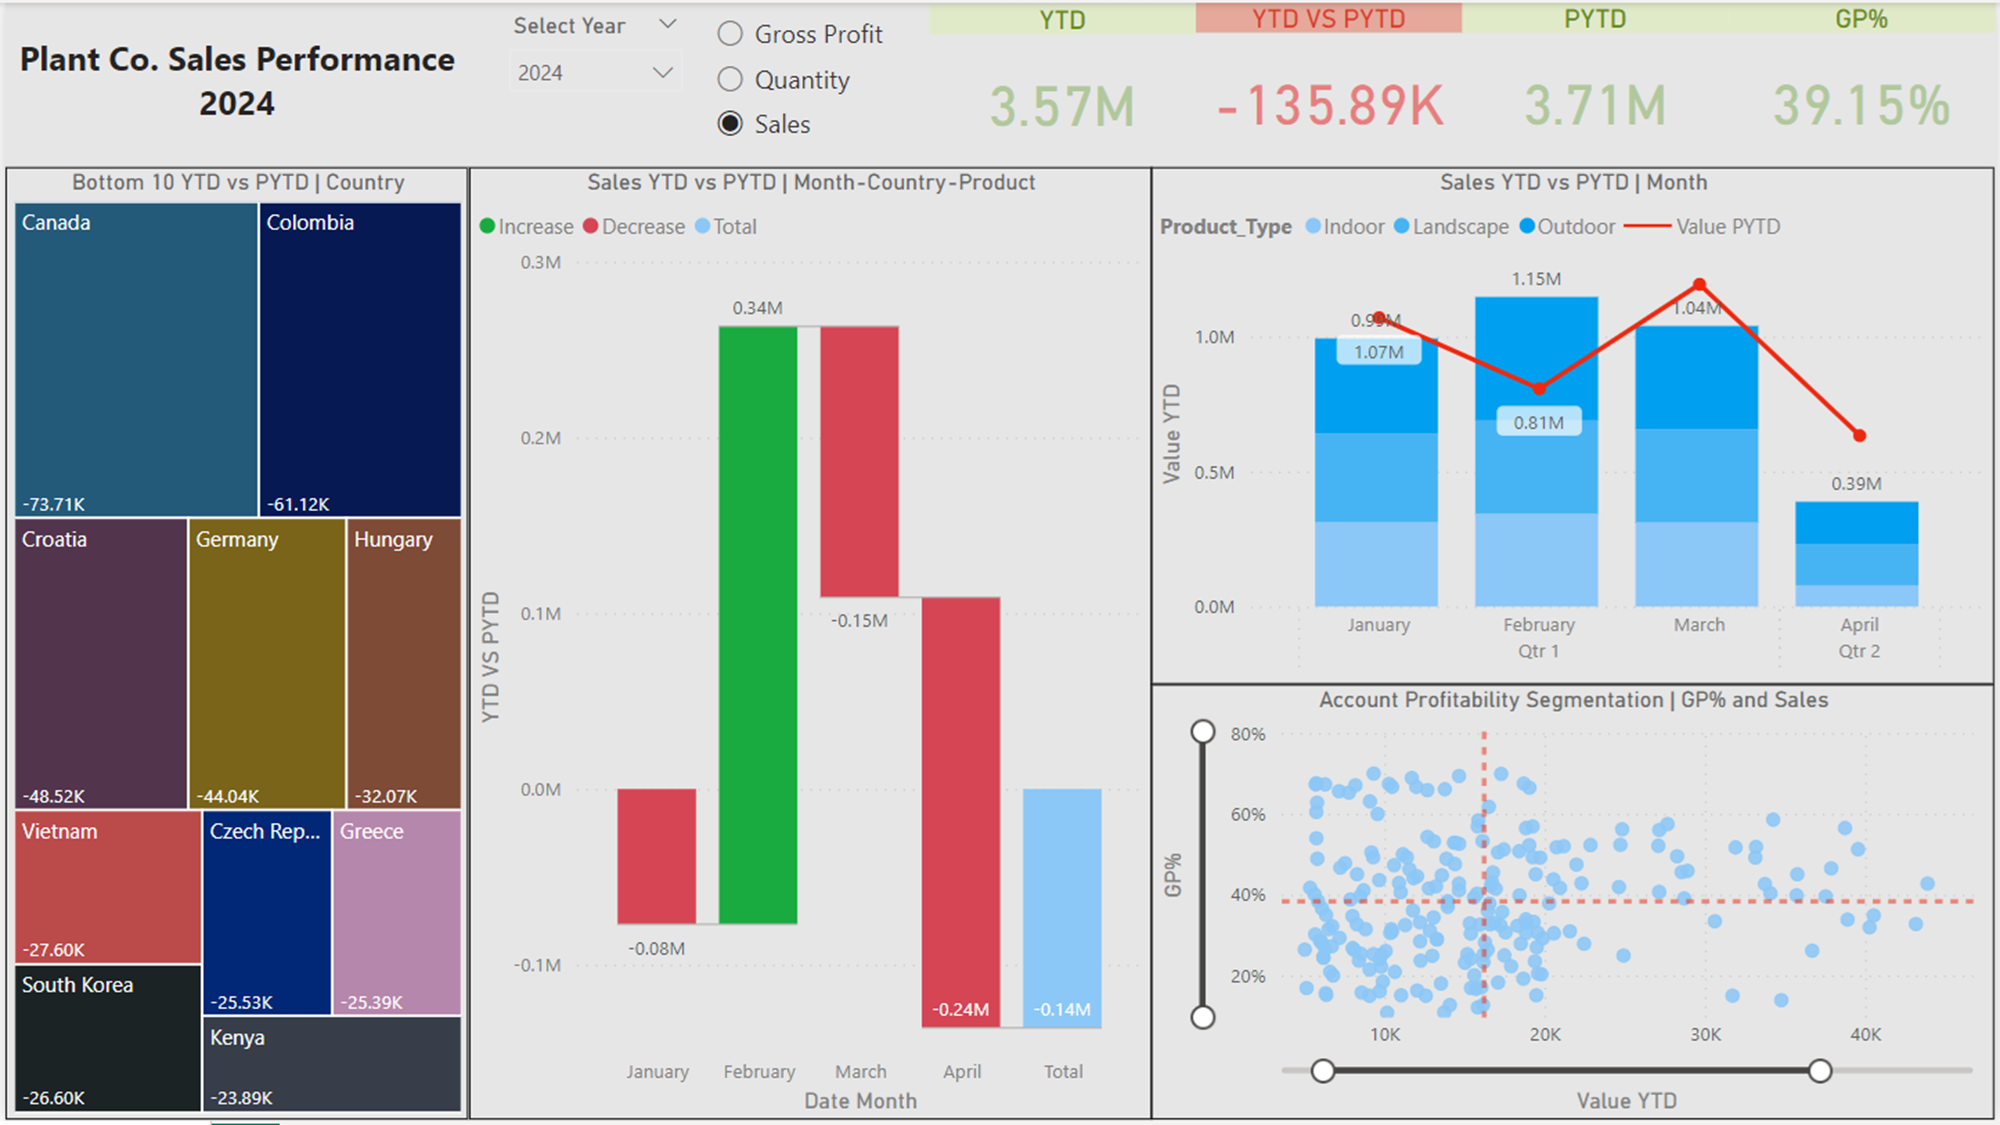

What the dashboard file says about the page in this screenshot:
{"tool":"powerbi","page":{"name":"Plant Co. Performance Report","canvas":[1280,720],"ordinal":0},"visuals":[{"type":"card","title":"YTD","fields":{"Values":["_Measures.YTD_Sales"]},"box":[594.6,1.2,171.3,104.9],"z":0},{"type":"card","title":"PYTD","fields":{"Values":["_Measures.PYTD_Sales"]},"box":[937.1,0,171.3,106.1],"z":1000},{"type":"card","title":"YTD VS PYTD","fields":{"Values":["_Measures.YTD VS PYTD"]},"box":[765.8,0,171.3,106.1],"z":2000},{"type":"slicer","fields":{"Values":["Slc_Values.Values"]},"box":[445,0,149.5,106.1],"z":4000},{"type":"slicer","fields":{"Values":["Dim_Date.Date.Variation.Date Hierarchy.Year"]},"box":[313.6,1.2,131.5,74.8],"z":5000},{"type":"treemap","title":"Bottom 10 YTD vs PYTD | Country","fields":{"Group":["Dim_Account.country"],"Values":["_Measures.YTD VS PYTD"]},"box":[0,106.1,297.9,612.7],"z":6000},{"type":"waterfallChart","fields":{"Y":["_Measures.YTD VS PYTD"],"Category":["Dim_Date.Date.Variation.Date Hierarchy.Month","Dim_Account.country","Dim_Product.Product_Type","Dim_Product.Product_Name"]},"box":[297.9,106.1,439,612.7],"z":7000},{"type":"lineStackedColumnComboChart","fields":{"Y":["_Measures.S_YTD"],"Category":["Dim_Date.Date.Variation.Date Hierarchy.Quarter","Dim_Date.Date.Variation.Date Hierarchy.Month"],"Y2":["_Measures.S_PYTD"],"Series":["Dim_Product.Product_Type"]},"box":[736.9,106.1,542.7,332.9],"z":8000},{"type":"card","title":"GP%","fields":{"Values":["_Measures.GP%"]},"box":[1108.3,0,171.3,106.1],"z":8001},{"type":"scatterChart","fields":{"Y":["_Measures.GP%"],"X":["_Measures.S_YTD"],"Category":["Dim_Account.Account"]},"box":[736.9,439,542.7,279.8],"z":8002},{"type":"clusteredColumnChart","box":[0,20.5,297.9,66.3],"z":8003}]}

Visuals, with their boxes in screenshot pixels (x1, y1, x2, y2), scaled from the page's 1280x720 canvas onto the 2000x1125 screenshot:
"YTD" card: l=929, t=2, r=1197, b=166
"PYTD" card: l=1464, t=0, r=1732, b=166
"YTD VS PYTD" card: l=1197, t=0, r=1464, b=166
slicer - Slc_Values.Values: l=695, t=0, r=929, b=166
slicer - Dim_Date.Date.Variation.Date Hierarchy.Year: l=490, t=2, r=695, b=119
"Bottom 10 YTD vs PYTD | Country" treemap: l=0, t=166, r=465, b=1123
waterfallChart - _Measures.YTD VS PYTD x Dim_Date.Date.Variation.Date Hierarchy.Month: l=465, t=166, r=1151, b=1123
lineStackedColumnComboChart - _Measures.S_YTD x Dim_Date.Date.Variation.Date Hierarchy.Quarter: l=1151, t=166, r=1999, b=686
"GP%" card: l=1732, t=0, r=1999, b=166
scatterChart - _Measures.GP% x _Measures.S_YTD: l=1151, t=686, r=1999, b=1123
clusteredColumnChart: l=0, t=32, r=465, b=136
